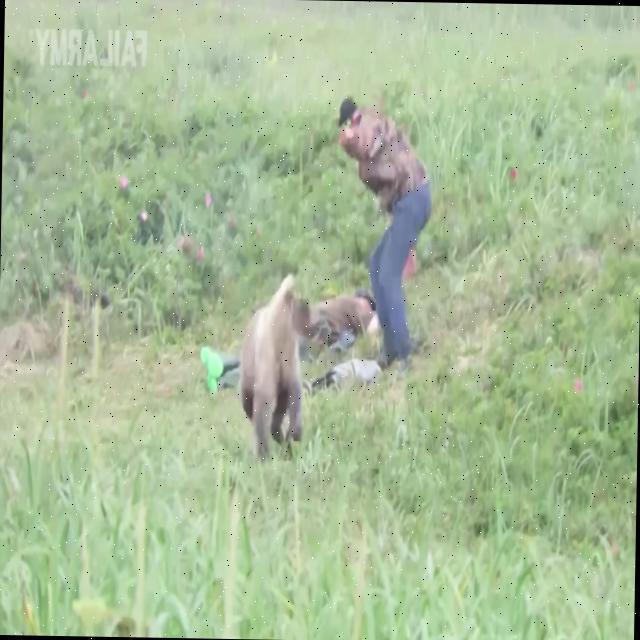person: (332, 95, 433, 370)
